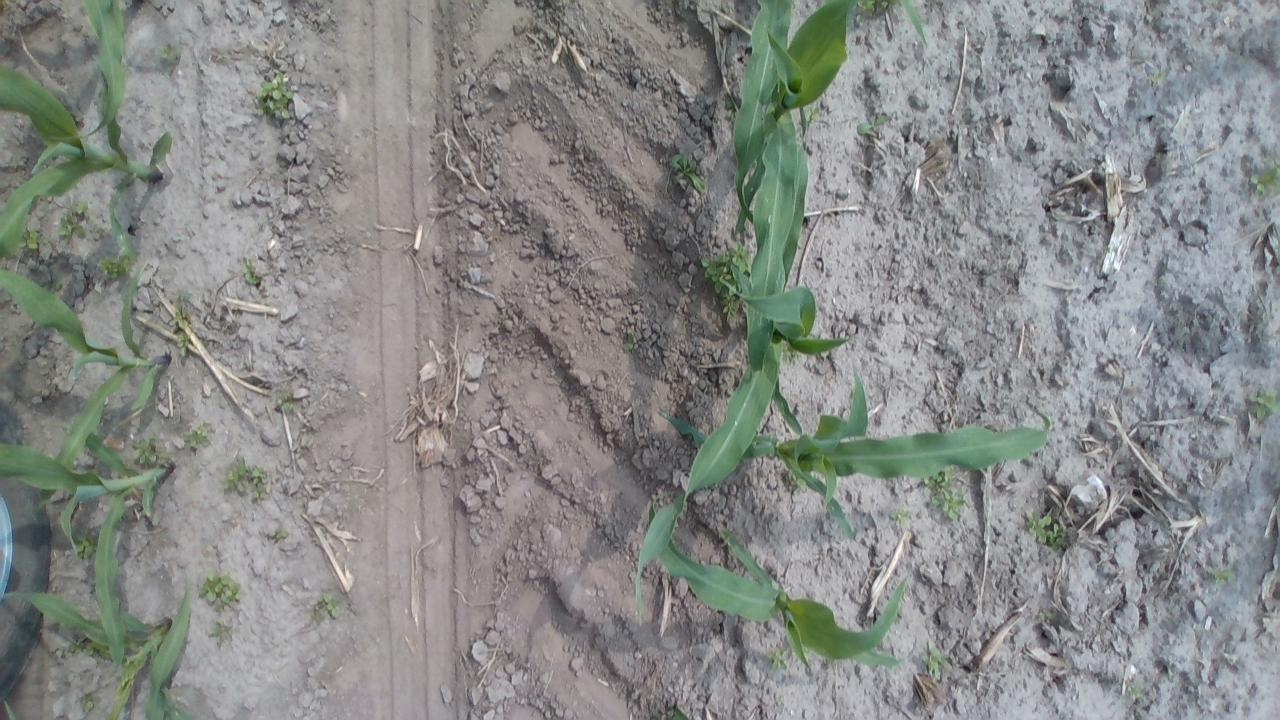Maize: (628, 107, 848, 608), (650, 355, 1060, 536), (640, 500, 919, 696), (726, 0, 860, 376), (0, 419, 176, 669), (0, 268, 177, 516), (0, 27, 169, 266), (0, 580, 196, 720), (44, 0, 130, 142), (133, 581, 201, 720), (894, 0, 939, 53)
Weeds: (700, 242, 756, 326), (921, 462, 974, 528), (220, 455, 272, 503), (250, 68, 296, 120), (1022, 512, 1070, 554), (198, 568, 242, 612), (59, 632, 120, 662), (668, 151, 708, 195), (54, 200, 90, 241), (1241, 385, 1280, 422), (856, 109, 896, 142), (306, 590, 344, 624), (168, 308, 194, 356), (1248, 162, 1280, 201), (918, 644, 952, 680), (94, 253, 136, 282), (270, 384, 306, 416), (854, 0, 906, 21), (132, 436, 168, 466), (182, 420, 213, 453), (205, 618, 237, 649), (763, 648, 794, 679), (238, 258, 266, 288), (1204, 564, 1234, 592), (156, 44, 188, 70), (890, 504, 918, 533), (19, 226, 46, 252), (718, 96, 744, 120), (258, 526, 292, 544), (74, 534, 95, 562), (782, 342, 804, 368), (1120, 680, 1148, 700), (622, 334, 644, 359), (1036, 608, 1062, 629), (782, 473, 804, 494), (78, 695, 99, 716)
